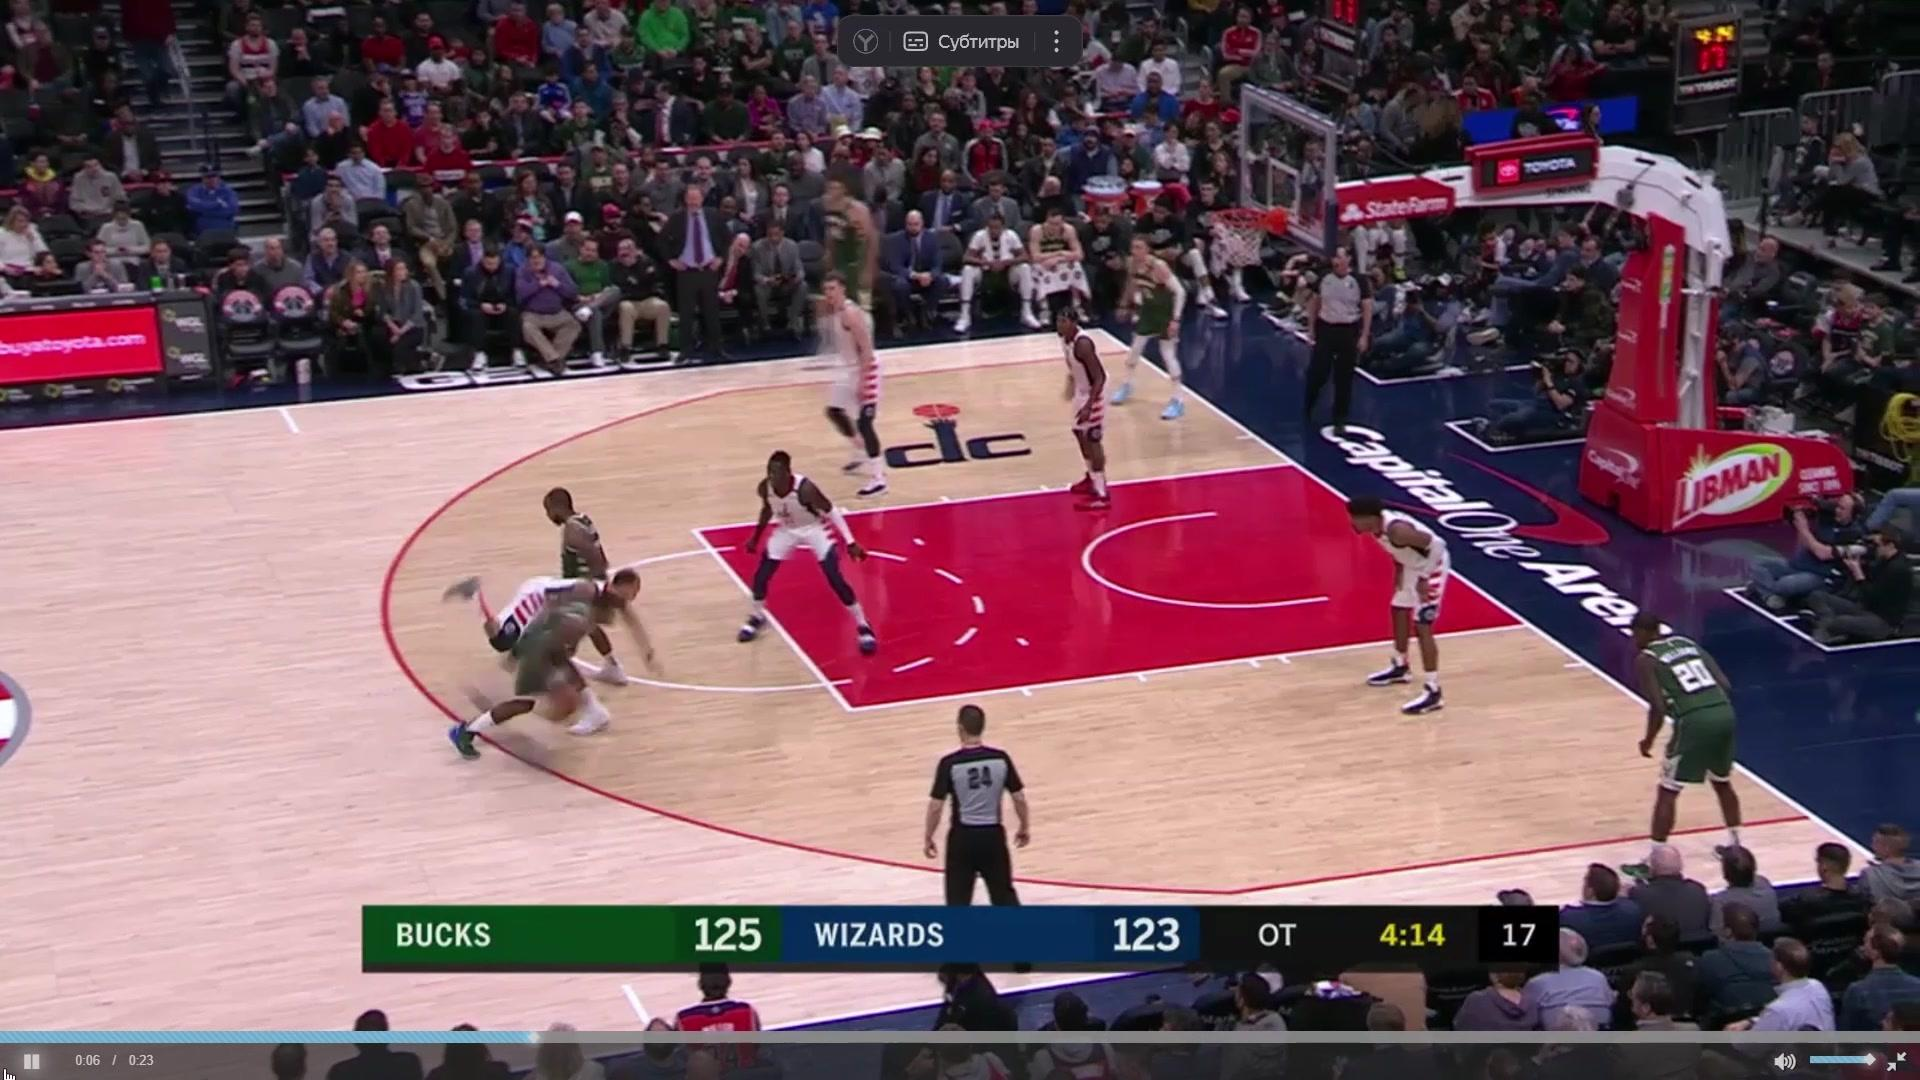foul: (451, 549, 666, 775)
